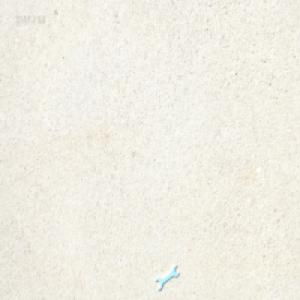Wrench: (156, 261, 180, 289)
